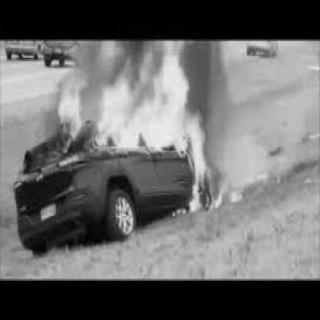Fire: (22, 41, 220, 221)
